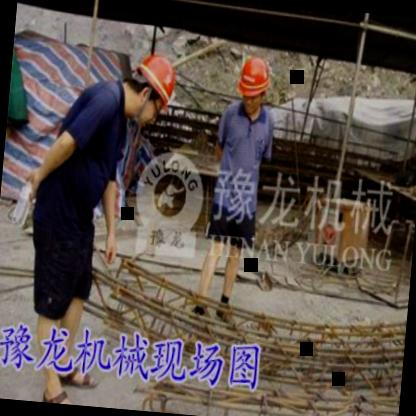helmet: (122, 48, 182, 128), (233, 53, 273, 114)
